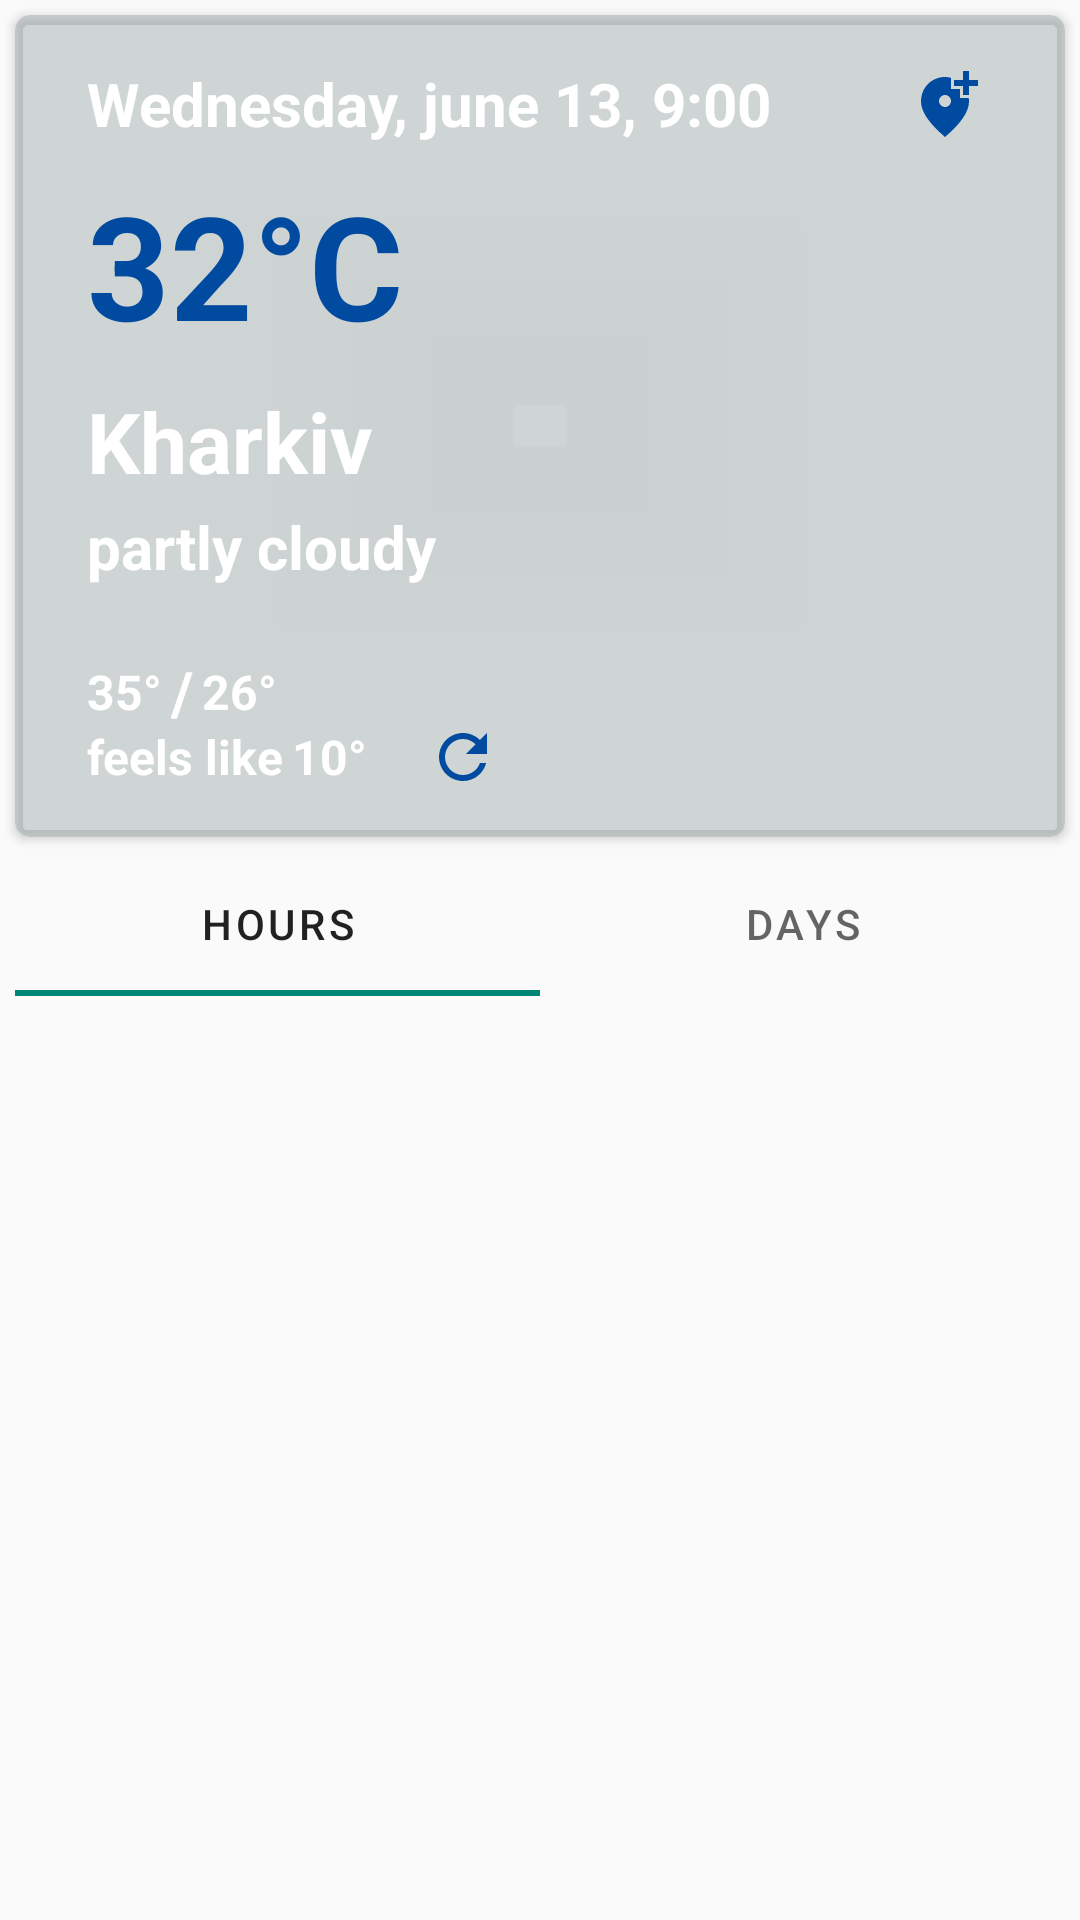

Point at icon controls on the screen. Image size 1080*1920, points as [x,y].
choose location: [949,104]
refresh the page: [463,757]
